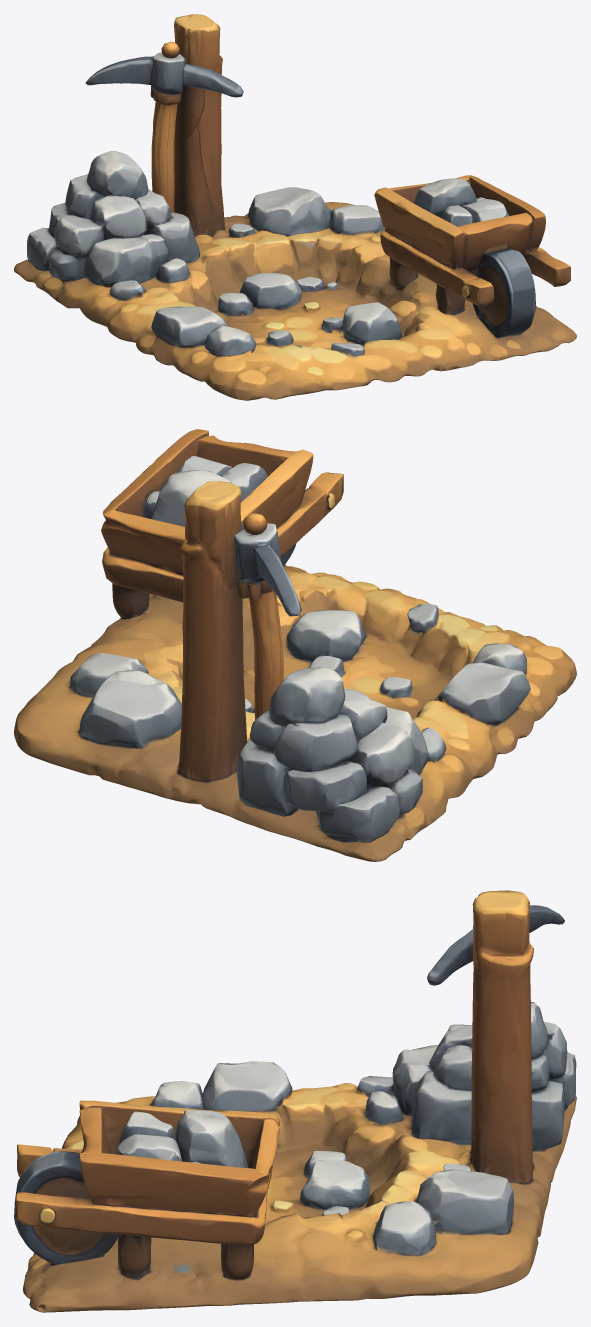
File: stone_pit_small.glb
3 renders of one model, top to bottom at view 1: azimuth 30°, elevation 25°; view 2: azimuth 150°, elevation 25°; view 3: azimuth 270°, elevation 25°, orthographic. The views are drawn at different scales.
Parts seen in each view (by area): view 1: tripo_node_192ddcac-bae7-4e2e-9df4-db4afedd64e2; view 2: tripo_node_192ddcac-bae7-4e2e-9df4-db4afedd64e2; view 3: tripo_node_192ddcac-bae7-4e2e-9df4-db4afedd64e2.
Boxes of the visible parts, <box> form: tripo_node_192ddcac-bae7-4e2e-9df4-db4afedd64e2: <box>14,14,576,400</box>; tripo_node_192ddcac-bae7-4e2e-9df4-db4afedd64e2: <box>14,429,576,861</box>; tripo_node_192ddcac-bae7-4e2e-9df4-db4afedd64e2: <box>14,890,576,1312</box>.
Bounding box in the file's own units: 0.9199 × 0.5961 × 1.
1 material, 1 textured.
